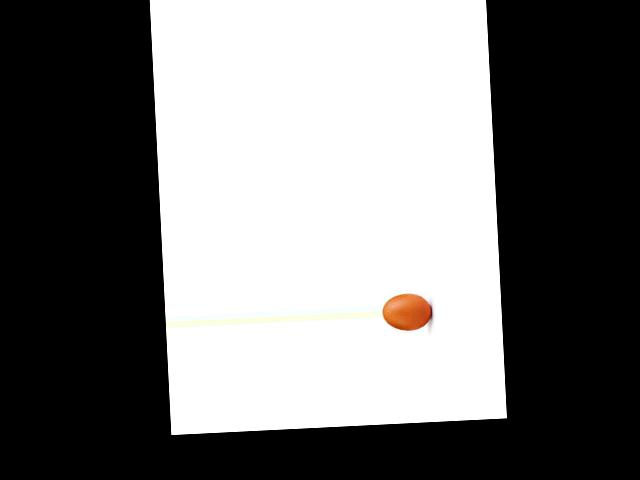egg: (382, 293, 432, 331)
